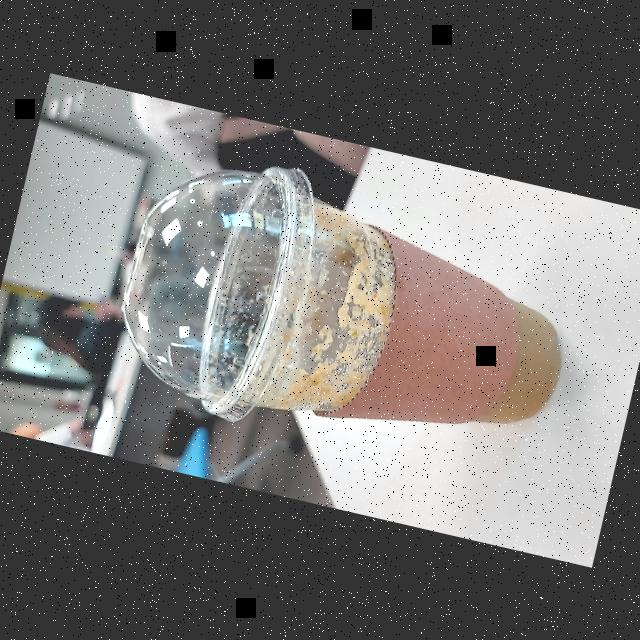plastic_cup: (82, 135, 596, 510)
plastic_cup_lid: (95, 132, 328, 431)
